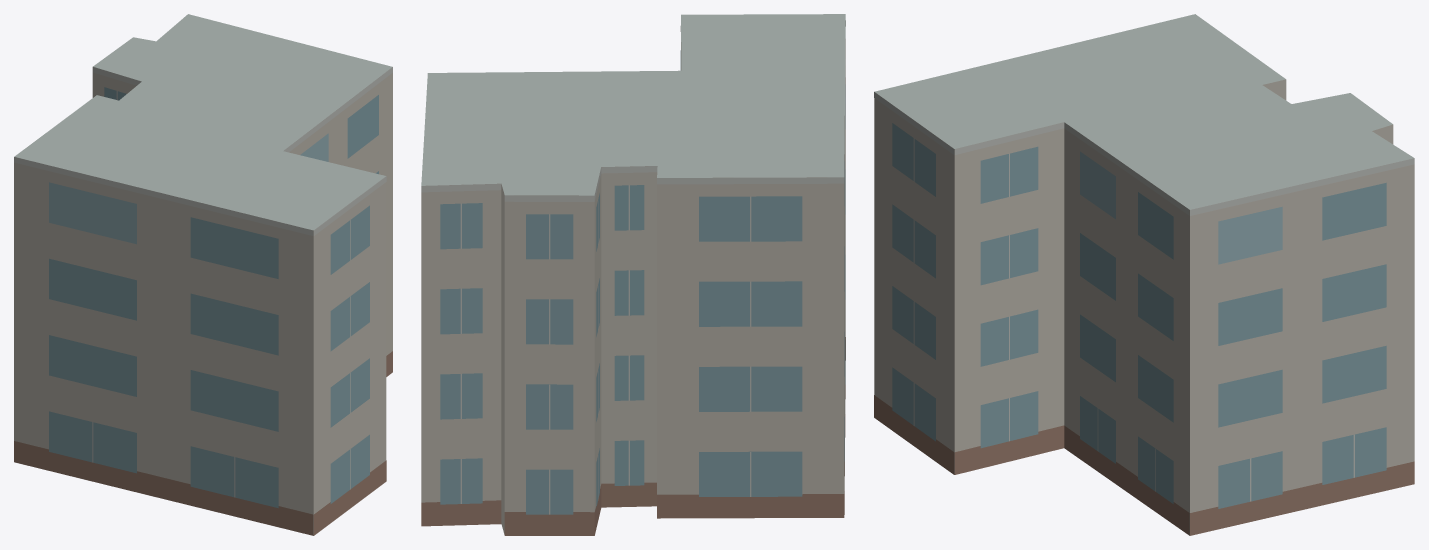
File: survey-upis-32587044.glb
3 views of the same model, side by side, from view 1: azimuth 30°, elevation 25°; view 2: azimuth 150°, elevation 25°; view 3: azimuth 270°, elevation 25° (orthographic). The views are drawn at different scales.
Visible parts, largest first — view 1: survey-upis-32587044.tmp; view 2: survey-upis-32587044.tmp; view 3: survey-upis-32587044.tmp.
Part boxes in pixels (<box>): survey-upis-32587044.tmp: <box>14,14,392,535</box>; survey-upis-32587044.tmp: <box>421,14,845,535</box>; survey-upis-32587044.tmp: <box>874,14,1414,535</box>.
Size of the model in its own units: 16.64 by 12.9 by 19.4.
